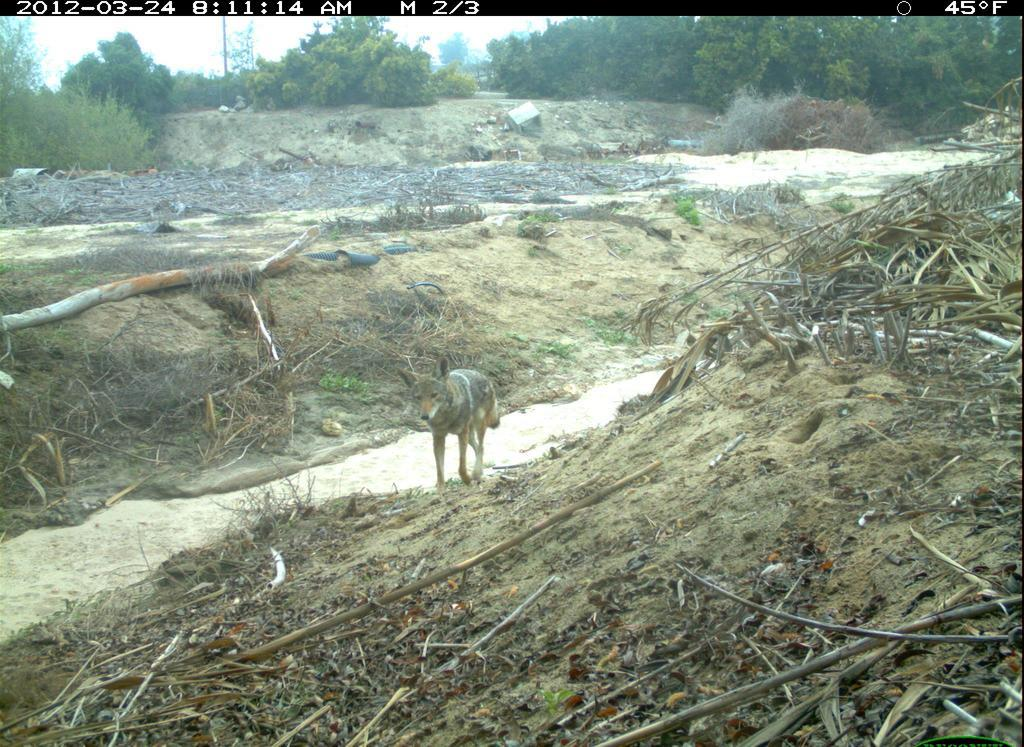coyote: (395, 358, 529, 497)
